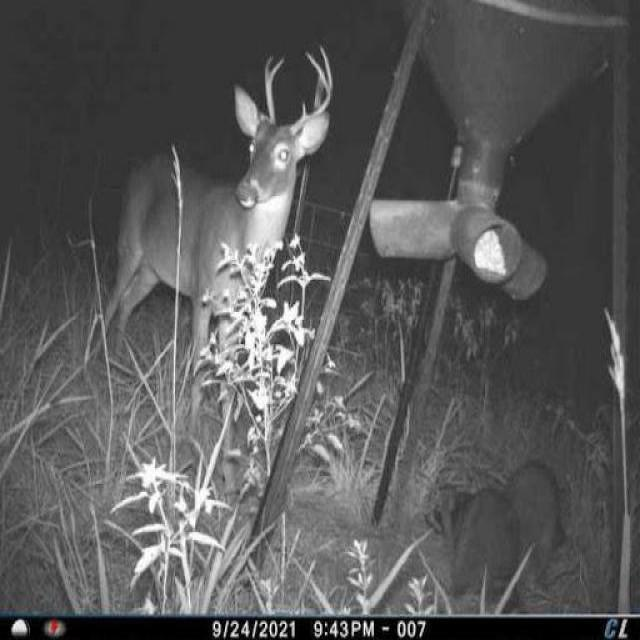deer: (87, 39, 345, 517)
